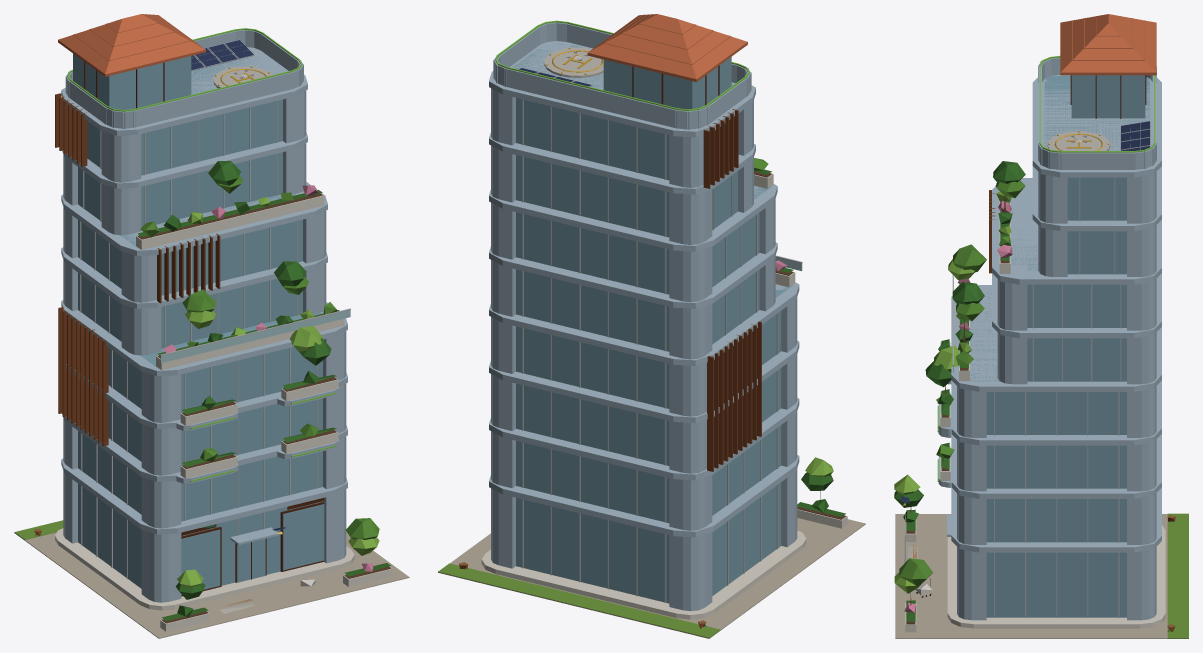
File: shop_3.glb
The picture shows the model from 3 angles, left to right: view 1: azimuth 30°, elevation 25°; view 2: azimuth 150°, elevation 25°; view 3: azimuth 270°, elevation 25°; orthographic projection. The views are drawn at different scales.
Visible parts, largest first — view 1: body, windows; view 2: body, windows; view 3: body, windows.
Part boxes in pixels (x1,y1,x2,y2): body: (14,14,409,638); windows: (67,28,335,584); body: (438,14,865,638); windows: (495,20,749,111); body: (894,14,1188,638); windows: (903,56,1155,591).
Size of the model in its own units: 15.9 by 32.21 by 15.95.
